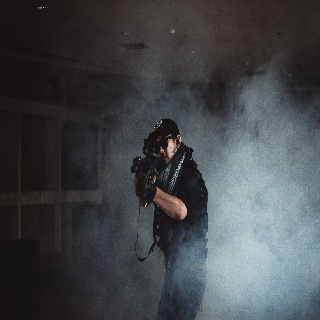rifle: (130, 140, 163, 197)
